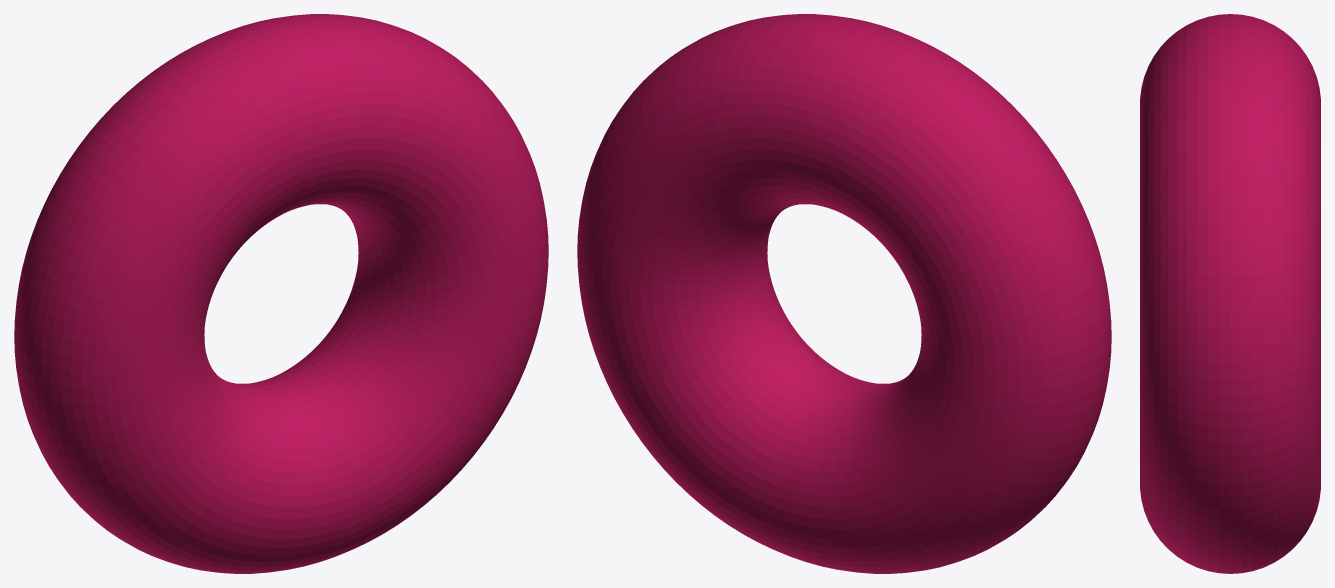
3 views of the same model, side by side, from view 1: azimuth 30°, elevation 25°; view 2: azimuth 150°, elevation 25°; view 3: azimuth 270°, elevation 25° (orthographic). The views are drawn at different scales.
Parts seen in each view (by area): view 1: world; view 2: world; view 3: world.
Boxes of the visible parts, bbox=[...] form: world: bbox=[14, 14, 548, 573]; world: bbox=[577, 14, 1111, 573]; world: bbox=[1140, 14, 1320, 573].
Bounding box in the file's own units: 27.6 × 27.6 × 8.92.
